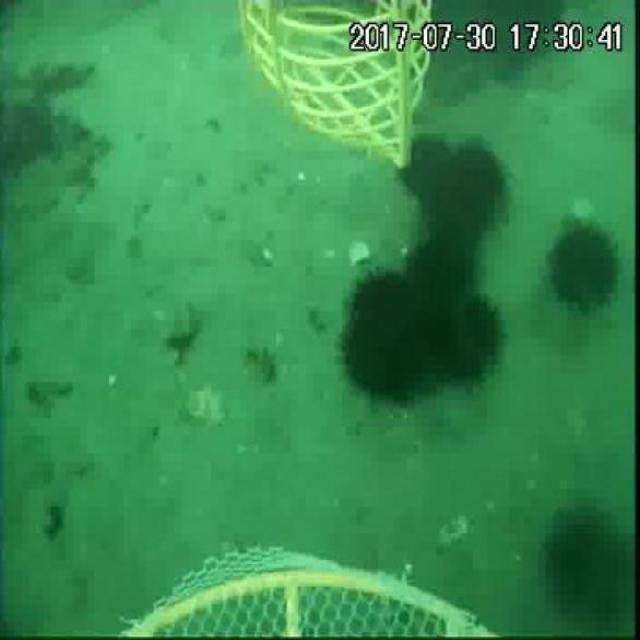echinus: (535, 490, 638, 630), (427, 143, 510, 249), (342, 304, 424, 407), (427, 290, 505, 390), (545, 218, 624, 314), (405, 236, 472, 323), (347, 268, 424, 333), (398, 132, 458, 205)
